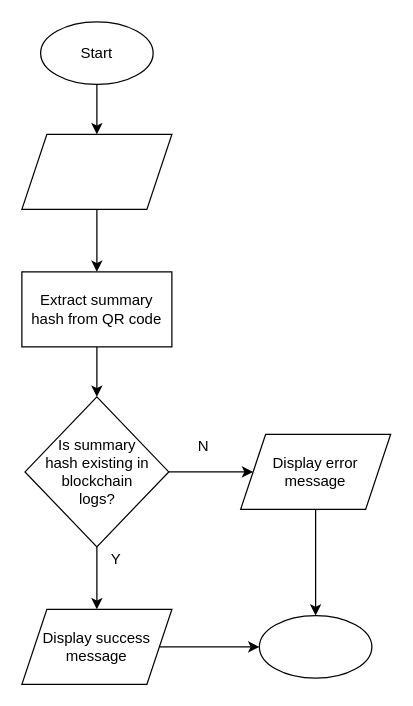
This 413x706 diagram has some shape labels left out. The box of each missing label's shape, as (x1, y1, x2, y2) in pixels:
End: (258, 614, 372, 678)
Patient vaccine QR code: (21, 133, 172, 209)
